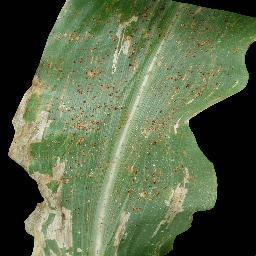Corn_Common_Rust: (4, 0, 234, 256)
